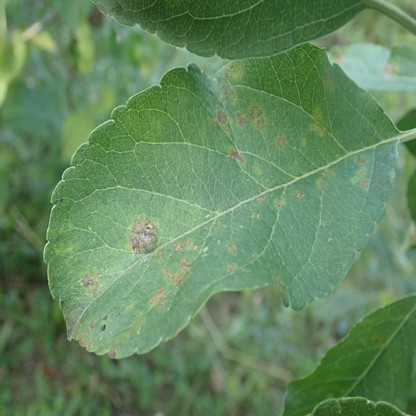scab: (151, 260, 194, 303), (130, 217, 160, 254), (109, 326, 135, 357), (351, 156, 370, 188), (80, 273, 99, 301), (312, 109, 328, 142), (78, 321, 95, 351), (249, 103, 265, 133), (219, 83, 238, 105), (222, 62, 242, 81), (317, 169, 334, 189), (229, 146, 246, 164), (53, 241, 74, 255), (174, 237, 194, 250), (322, 69, 333, 90), (120, 301, 139, 313), (217, 107, 227, 127), (235, 110, 246, 128), (274, 276, 287, 289), (273, 197, 285, 211), (134, 317, 145, 332), (277, 133, 286, 150), (252, 162, 262, 175), (98, 338, 106, 354), (227, 241, 237, 253), (226, 263, 238, 273), (292, 189, 304, 197), (206, 117, 216, 126), (301, 136, 308, 147), (256, 195, 265, 201), (213, 220, 219, 229), (223, 130, 229, 137)
